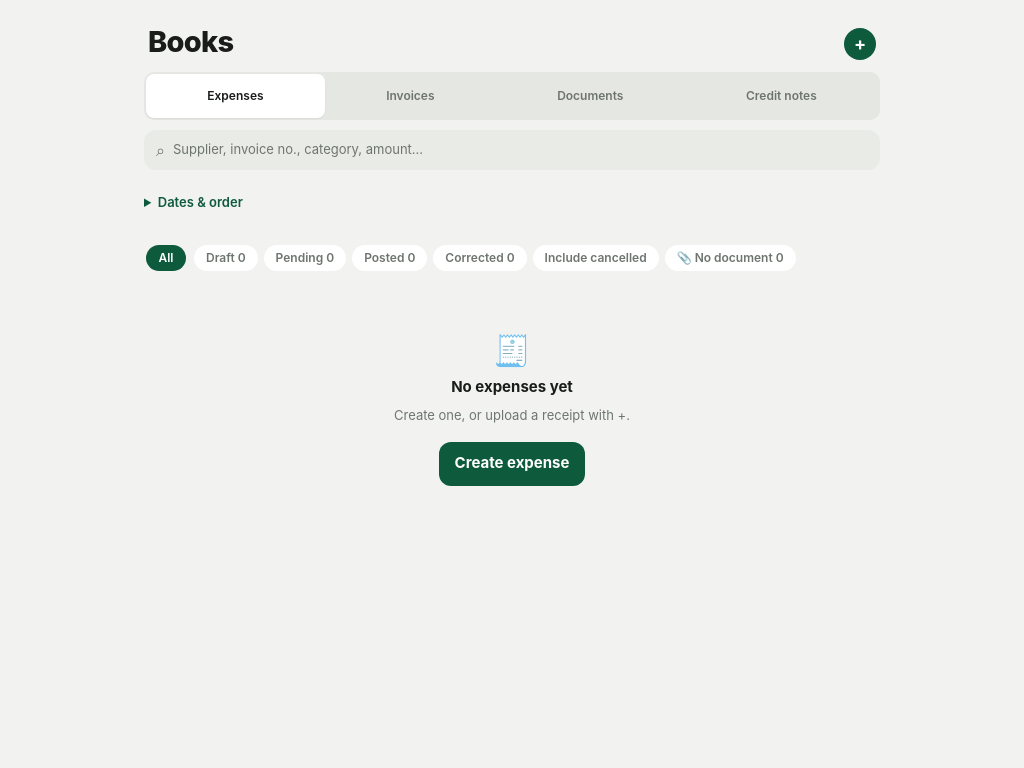
Test: BooksScreen › the + button opens the create menu
Click the button named "Add to the books" at (860, 44), box [838, 22, 882, 66]
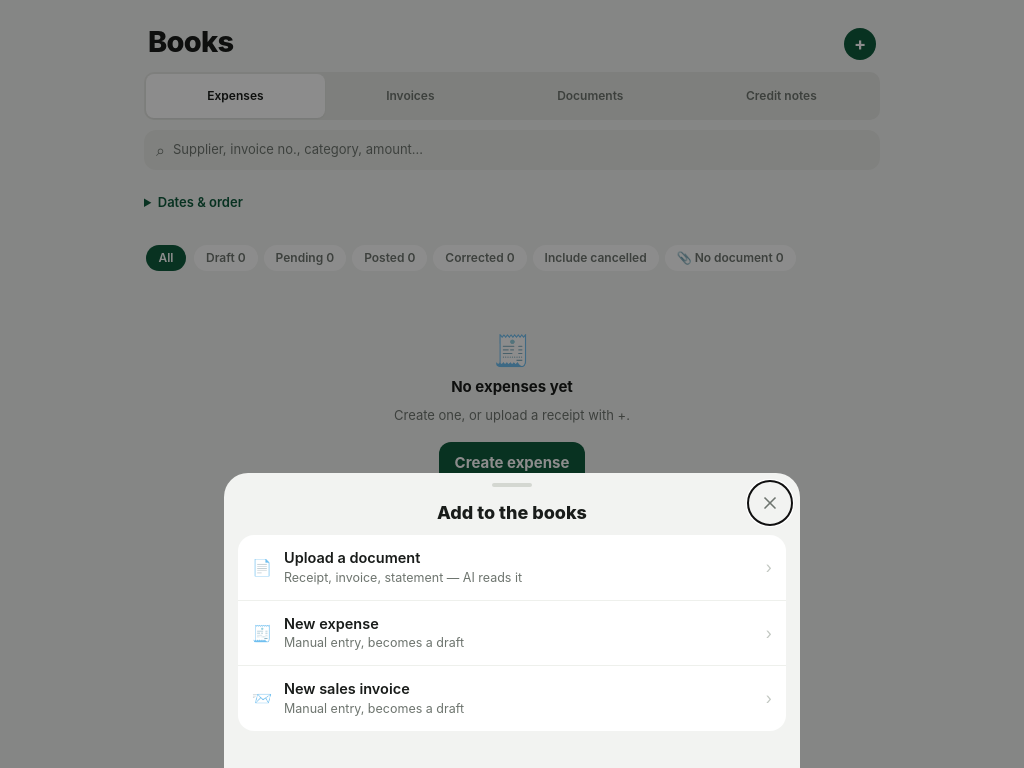
Result: the text "New expense" is shown at [284, 614, 379, 631]
Result: the text "Upload a document" is shown at [284, 548, 420, 566]
